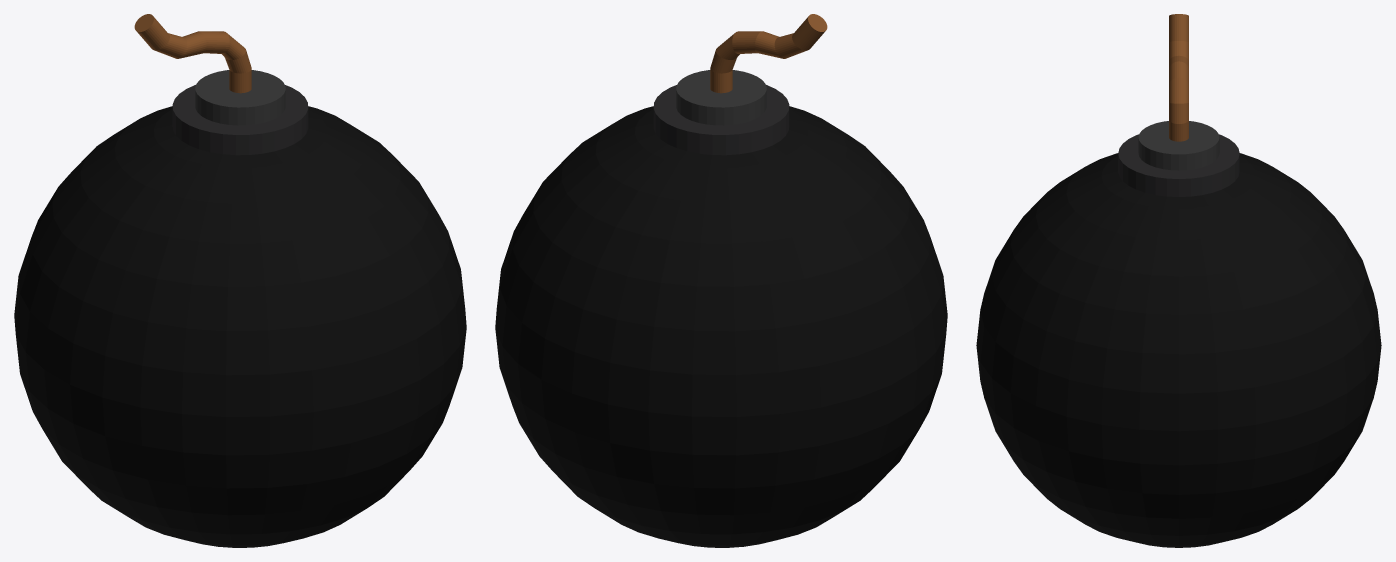
Rendered from Bomb01.fbx.
3 renders of one model, left to right at view 1: azimuth 30°, elevation 25°; view 2: azimuth 150°, elevation 25°; view 3: azimuth 270°, elevation 25°, orthographic. The views are drawn at different scales.
Parts seen in each view (by area): view 1: Bomb; view 2: Bomb; view 3: Bomb.
Part boxes in pixels (x1=…): Bomb: x1=14, y1=14, x2=466, y2=547; Bomb: x1=495, y1=14, x2=947, y2=547; Bomb: x1=976, y1=14, x2=1381, y2=547.
Size of the model in its own units: 200 by 260 by 200.
